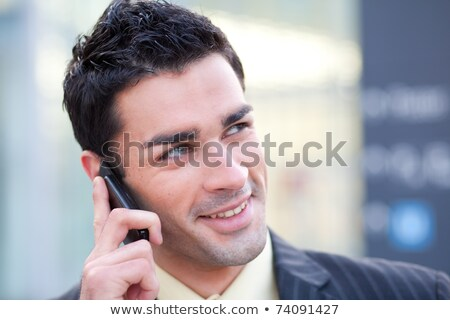phone: (89, 161, 149, 240)
talk: (80, 91, 270, 301)
